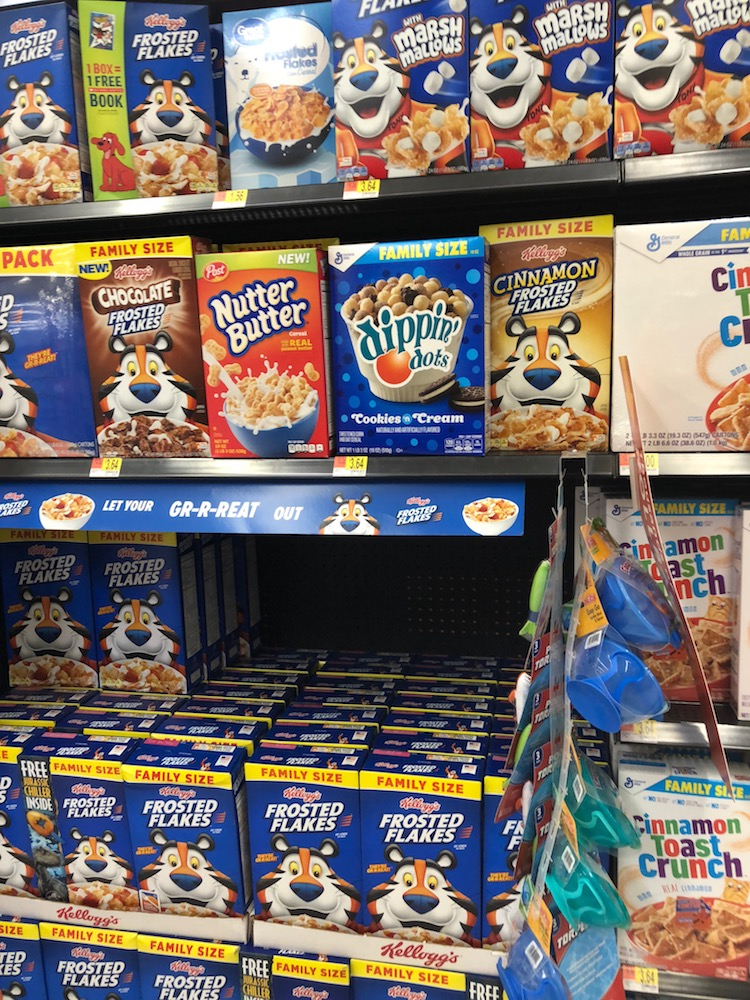Dippin Dots Cookies & Cream -568929378: (331, 252, 482, 450)
Nutter Butter-565717511: (192, 261, 334, 453)
